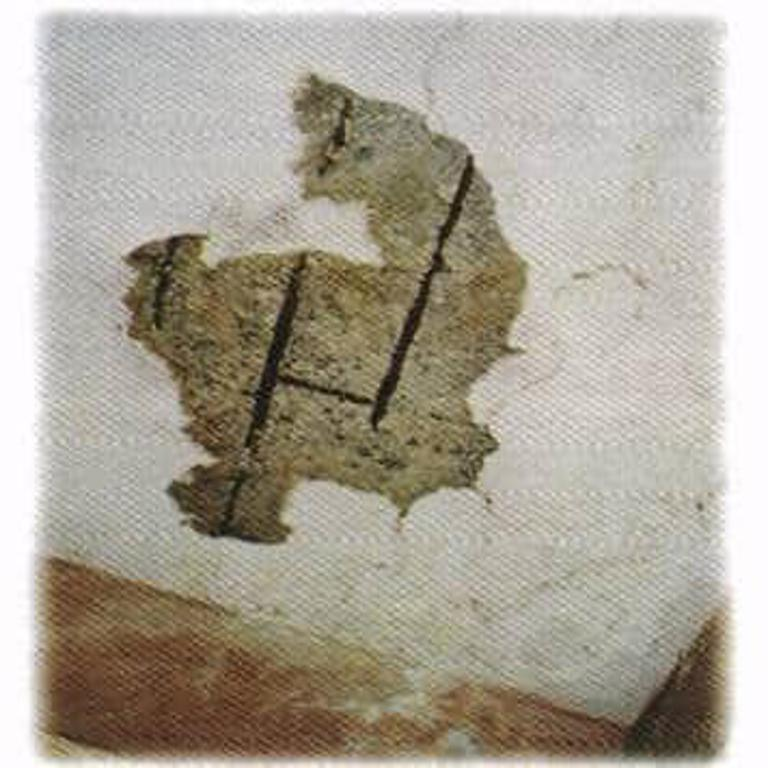exposed_rebar: (243, 154, 476, 449), (153, 237, 196, 328), (220, 466, 248, 535)
spalling: (126, 75, 525, 542)
